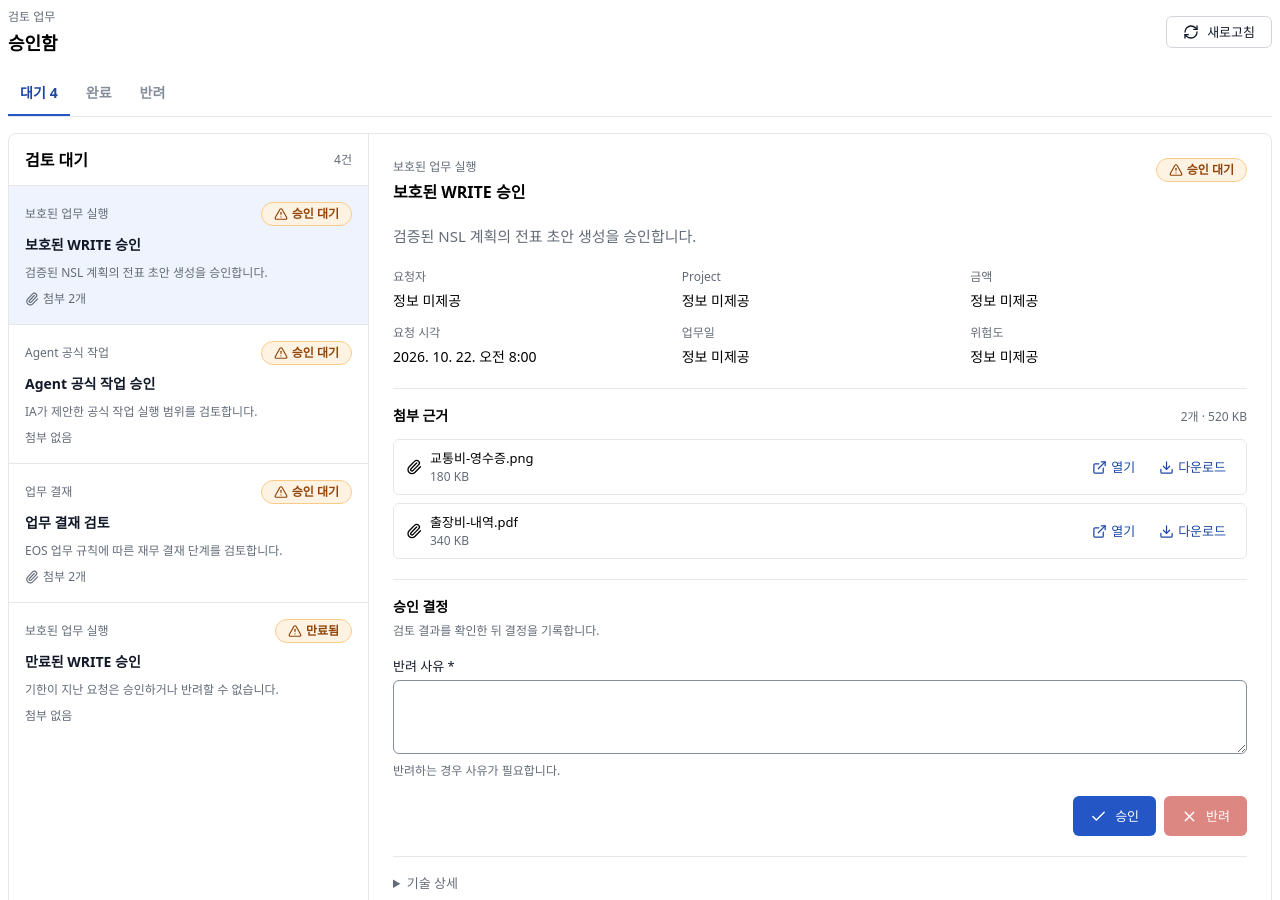
Test: Approval Inbox React surface › marks expired approvals and excludes protected context from the surface
The image size is (1280, 900).
Expected: the heading "보호된 WRITE 승인" is shown, top-left (393, 180), bottom-right (525, 204)
Click the button "만료된 WRITE 승인".
click(67, 630)  # box top-left (9, 603), bottom-right (368, 741)
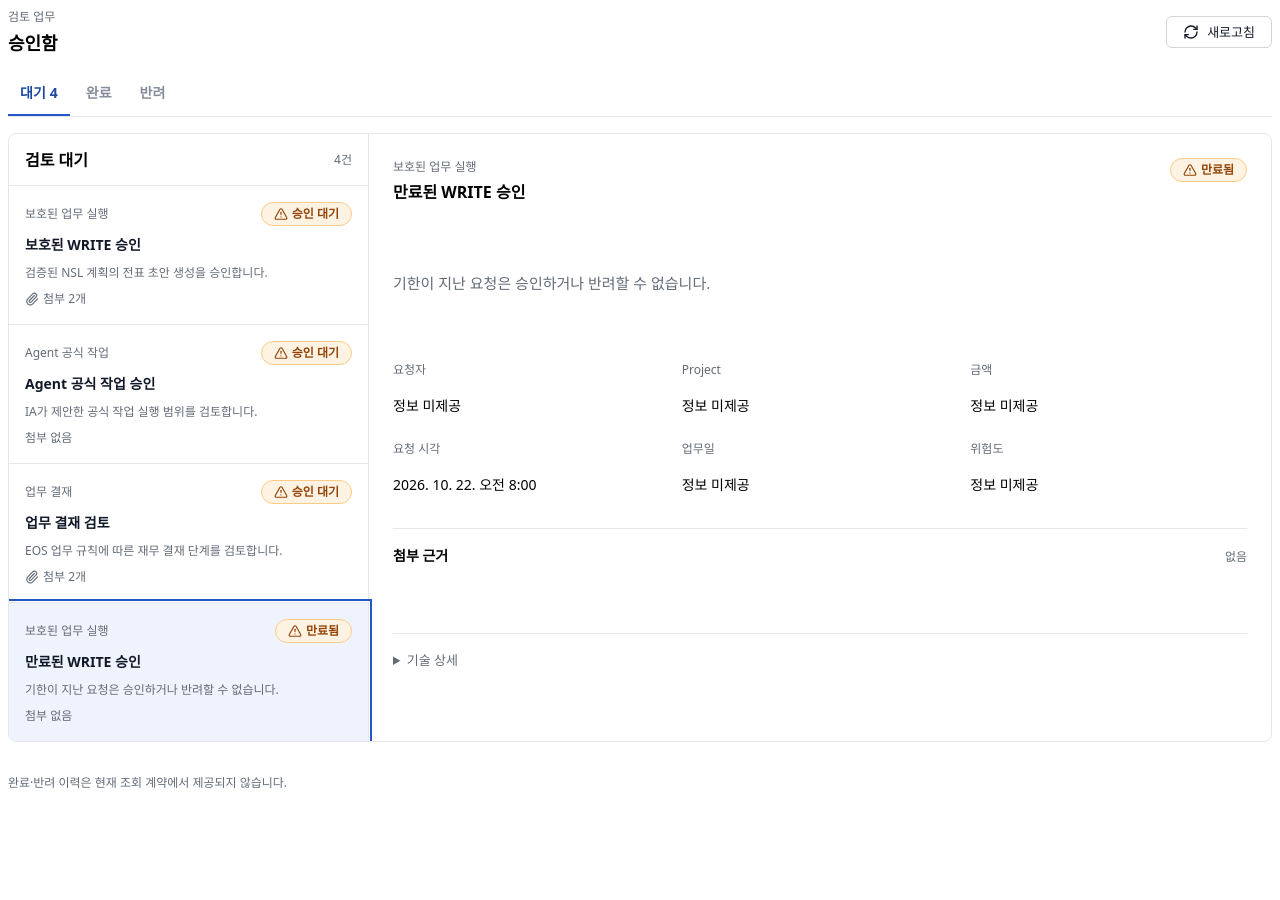
Expected: the 2nd text "만료됨" is shown, top-left (306, 622), bottom-right (339, 640)
Expected: the heading "만료된 WRITE 승인" is shown, top-left (393, 180), bottom-right (525, 204)
